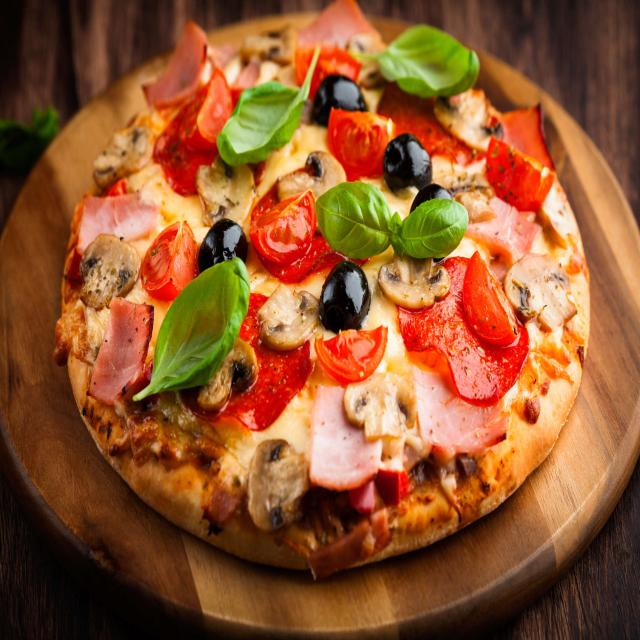Wet Waste: (55, 0, 600, 587)
